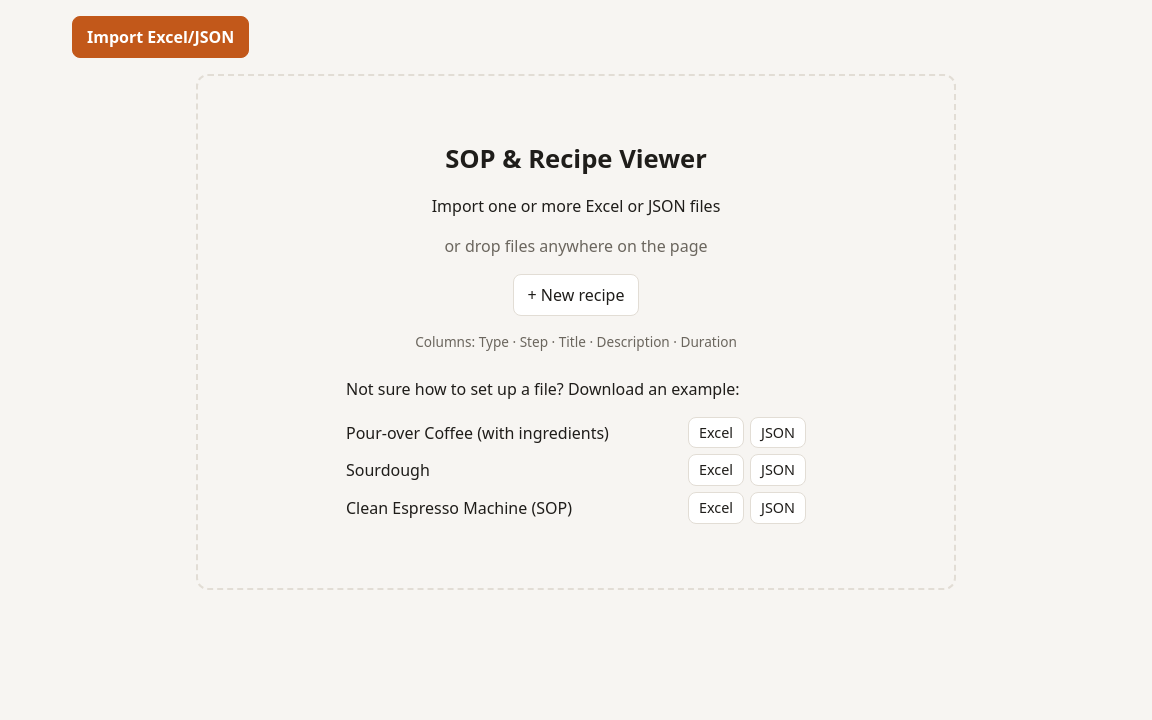
new recipe from the first page opens it with the title selected
Click the button "+ New recipe".
click(576, 295)  # box top-left (512, 274), bottom-right (639, 316)
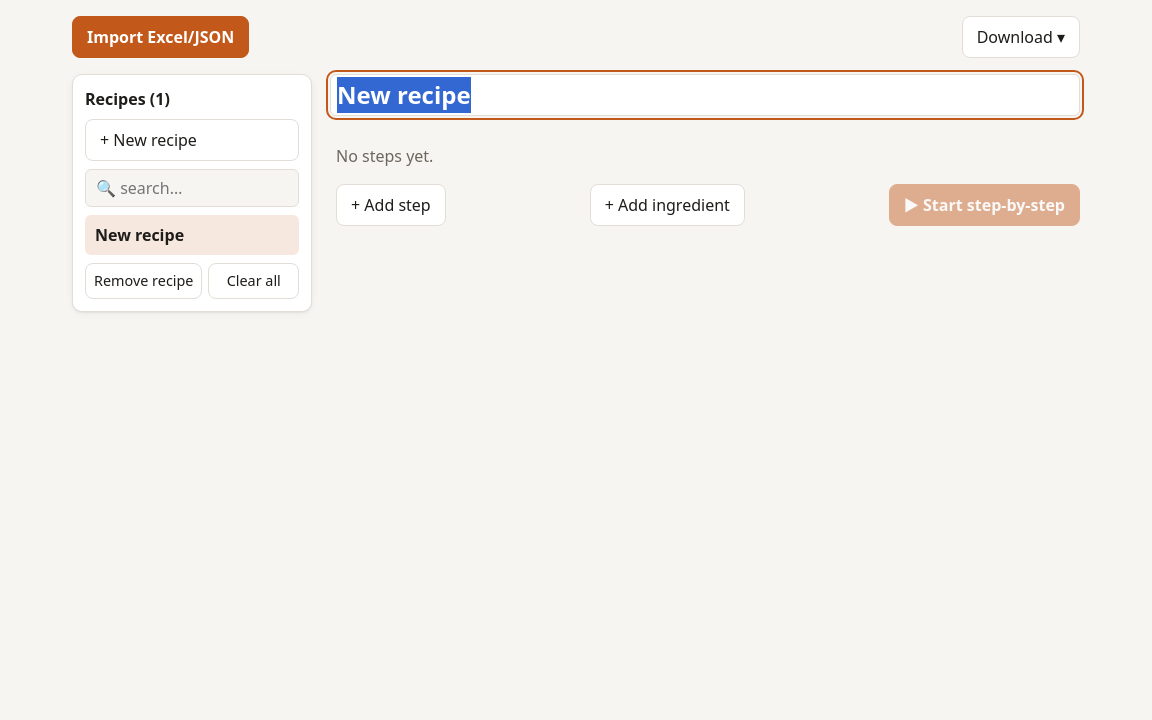
Result: the field named "SOP title" holds "New recipe" at top-left (330, 74), bottom-right (1080, 116)
Result: the text "No steps yet." is shown at top-left (336, 145), bottom-right (433, 167)
Result: the button "▶ Start step-by-step" is disabled at top-left (889, 184), bottom-right (1080, 226)
